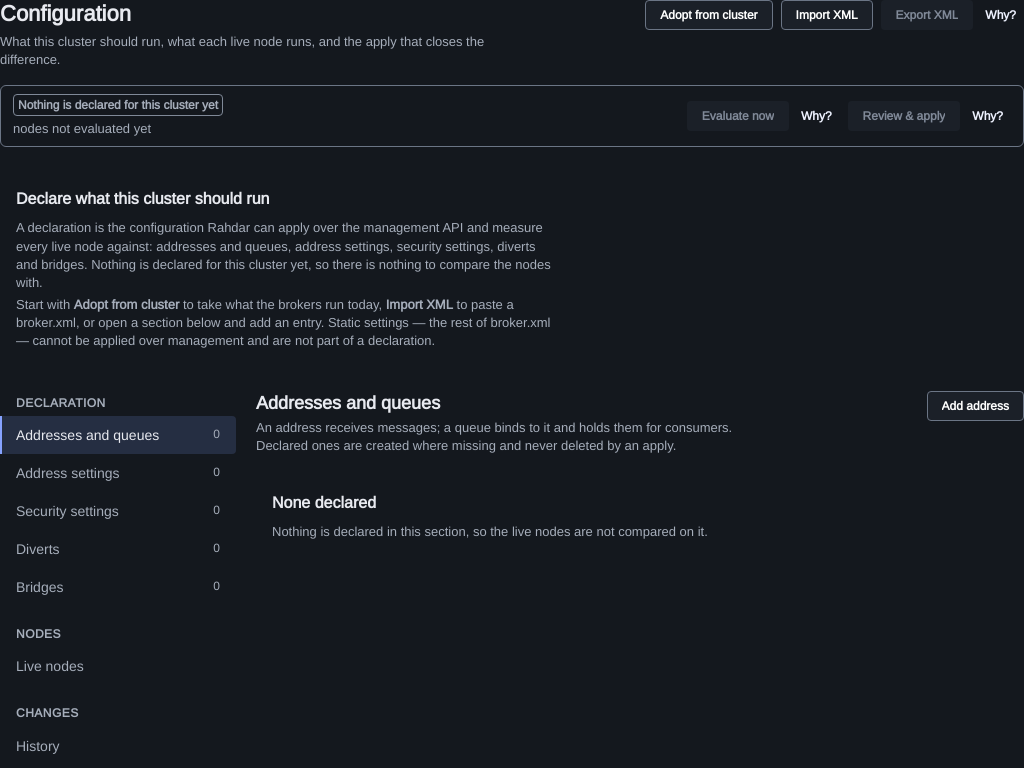
Test: ConfigurationView › keeps Evaluate now and Export visible when nothing is declared, each explaining itself
Expected: the button "Evaluate now" is disabled, [687,101,789,131]
Expected: the button "Export XML" is disabled, [881,0,973,30]
The reason is on a control that takes focus, never a hover title.
Click the button with aria-label "Why exporting the declaration is unavailable" at (1001, 15), box [977,3,1023,27]
(page scrolled)
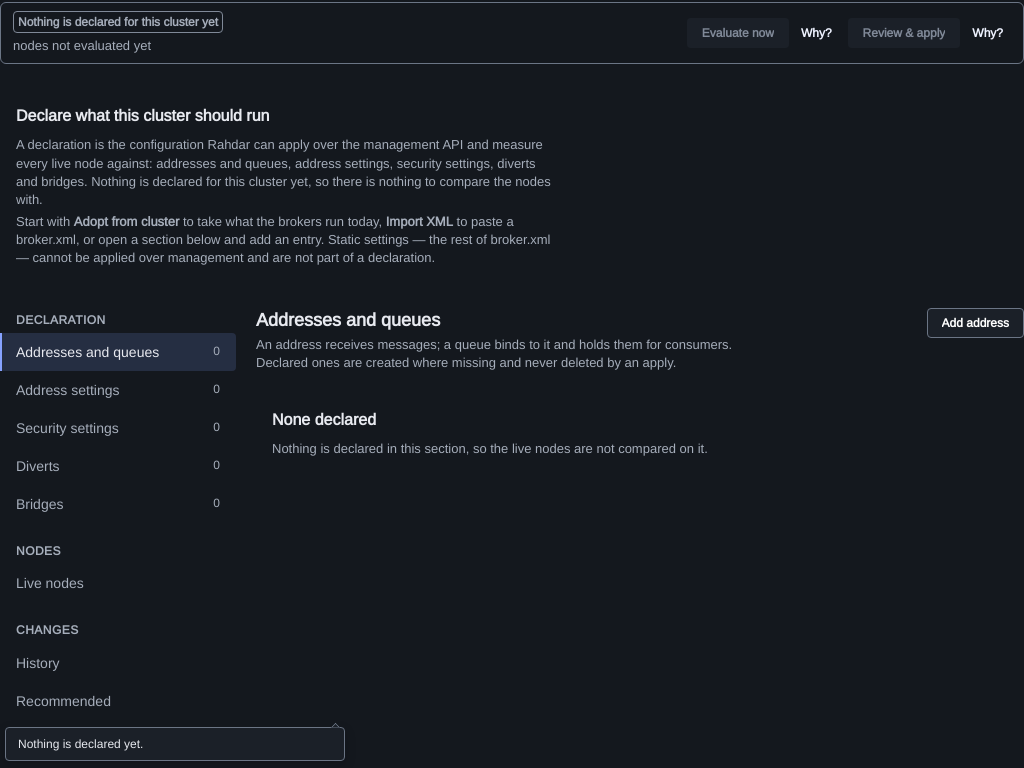
Expected: the text "Nothing is declared yet." is shown, [18,736,143,752]
